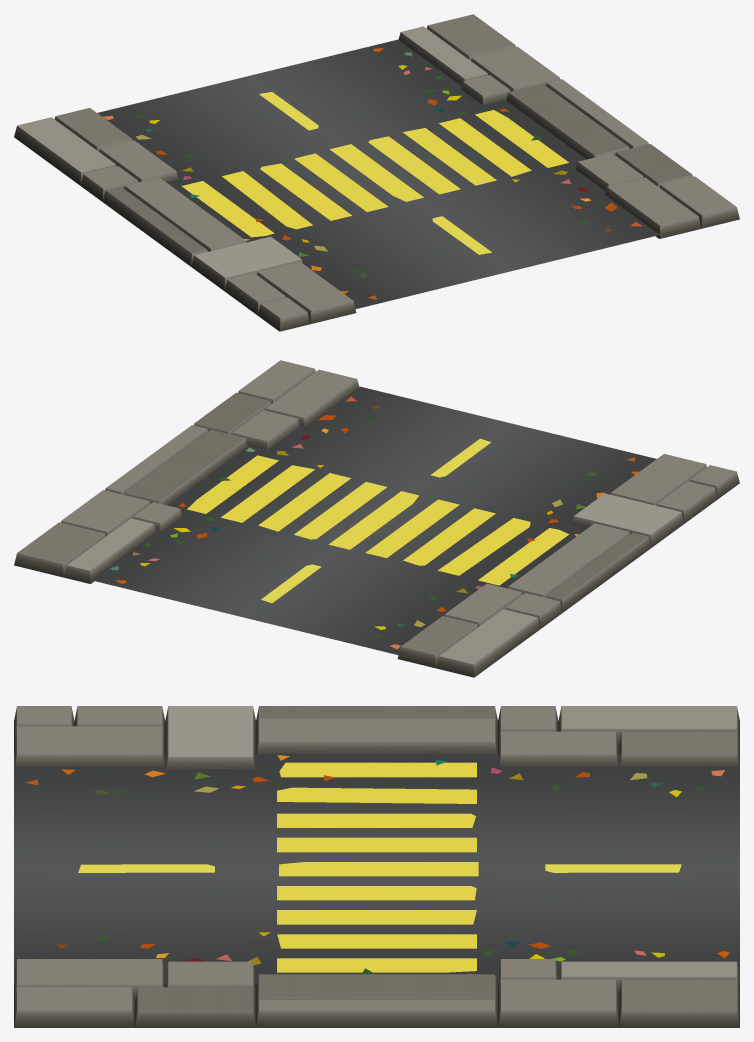
File: Country_Road_1B.fbx
3 renders of one model, top to bottom at view 1: azimuth 30°, elevation 25°; view 2: azimuth 150°, elevation 25°; view 3: azimuth 270°, elevation 25°, orthographic. The views are drawn at different scales.
Visible parts, largest first — view 1: Country_Road_1B, Country_Road_1B_Leaves; view 2: Country_Road_1B, Country_Road_1B_Leaves; view 3: Country_Road_1B, Country_Road_1B_Leaves.
Boxes of the visible parts, box(x1,y1,x2,y2) form: Country_Road_1B: box(14, 14, 739, 331); Country_Road_1B_Leaves: box(102, 48, 642, 299); Country_Road_1B: box(14, 360, 739, 677); Country_Road_1B_Leaves: box(110, 396, 638, 649); Country_Road_1B: box(14, 706, 739, 1027); Country_Road_1B_Leaves: box(25, 755, 729, 974).
Bounding box in the file's own units: 1200 × 30 × 1200.
